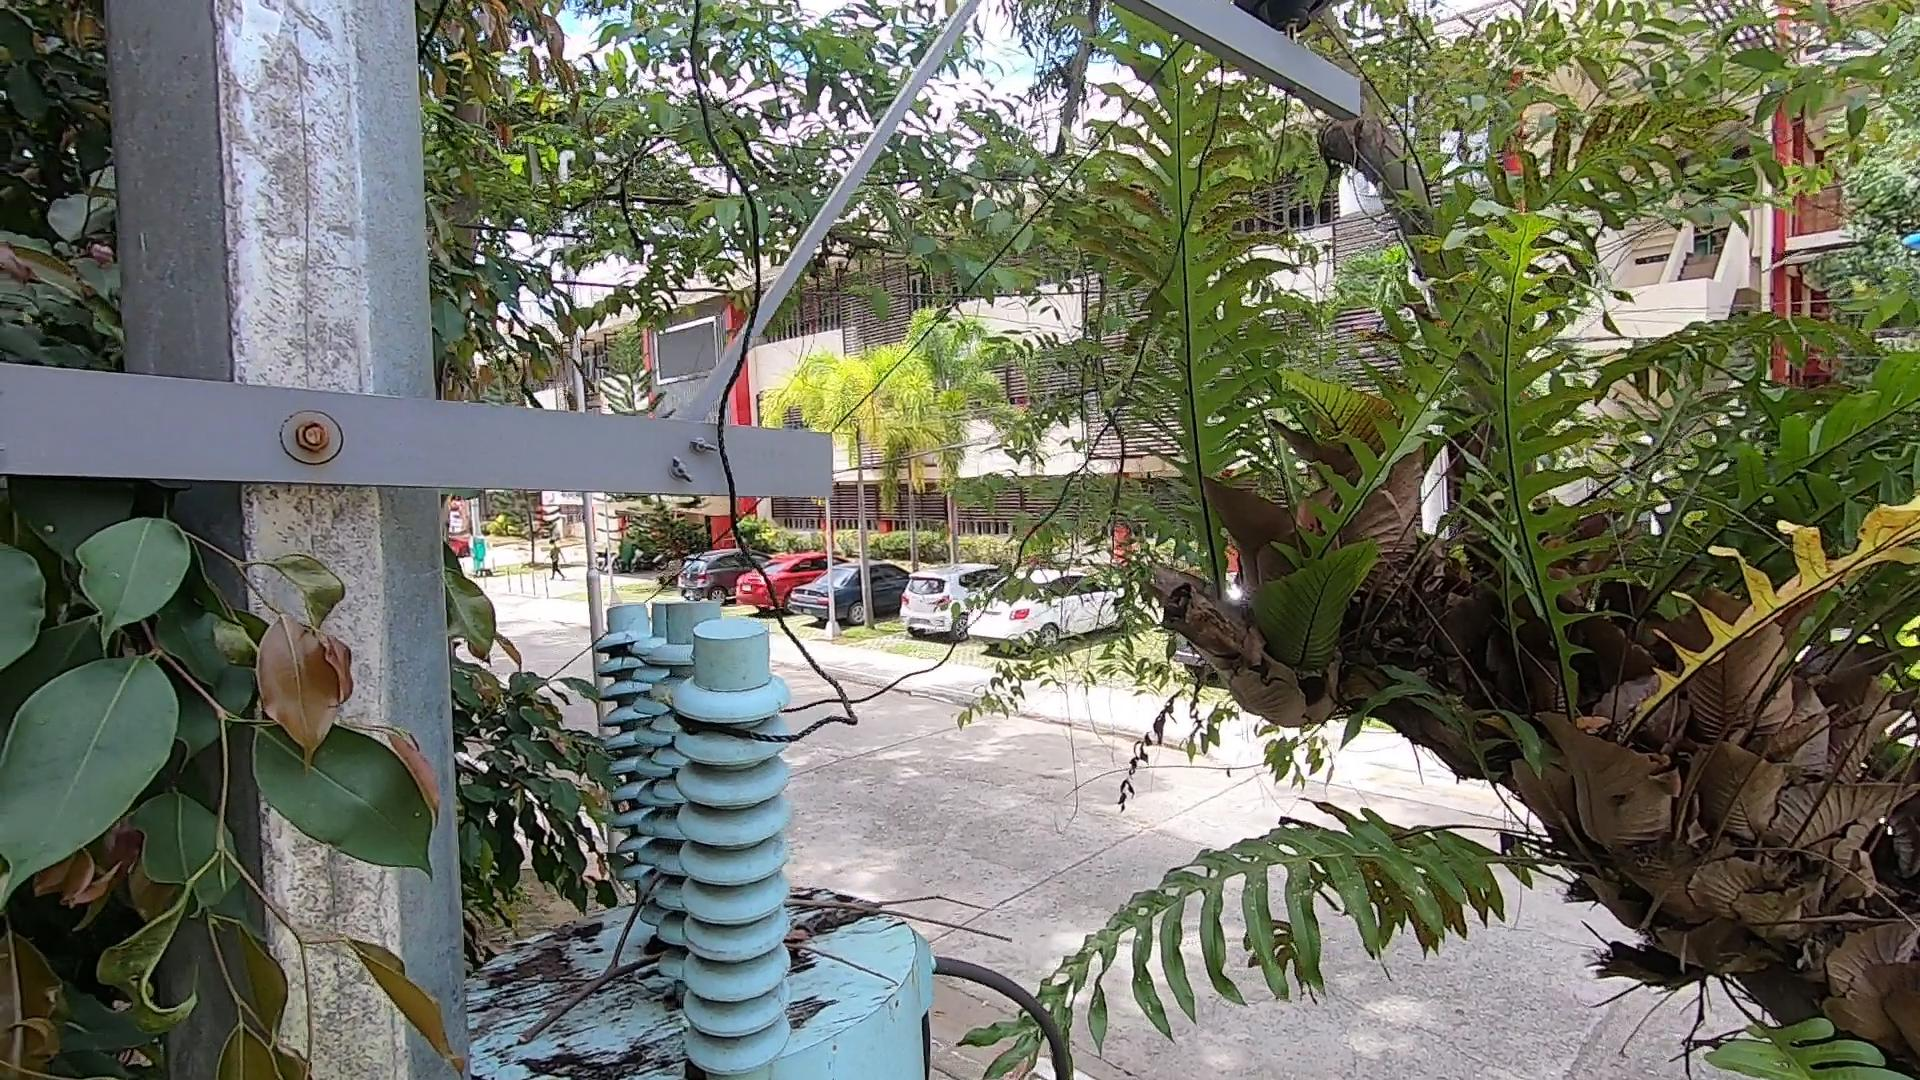branch with leaves: (47, 541, 483, 1080)
leaf: (504, 930, 582, 996), (777, 916, 811, 955)
tree branch: (512, 841, 1019, 1018)
